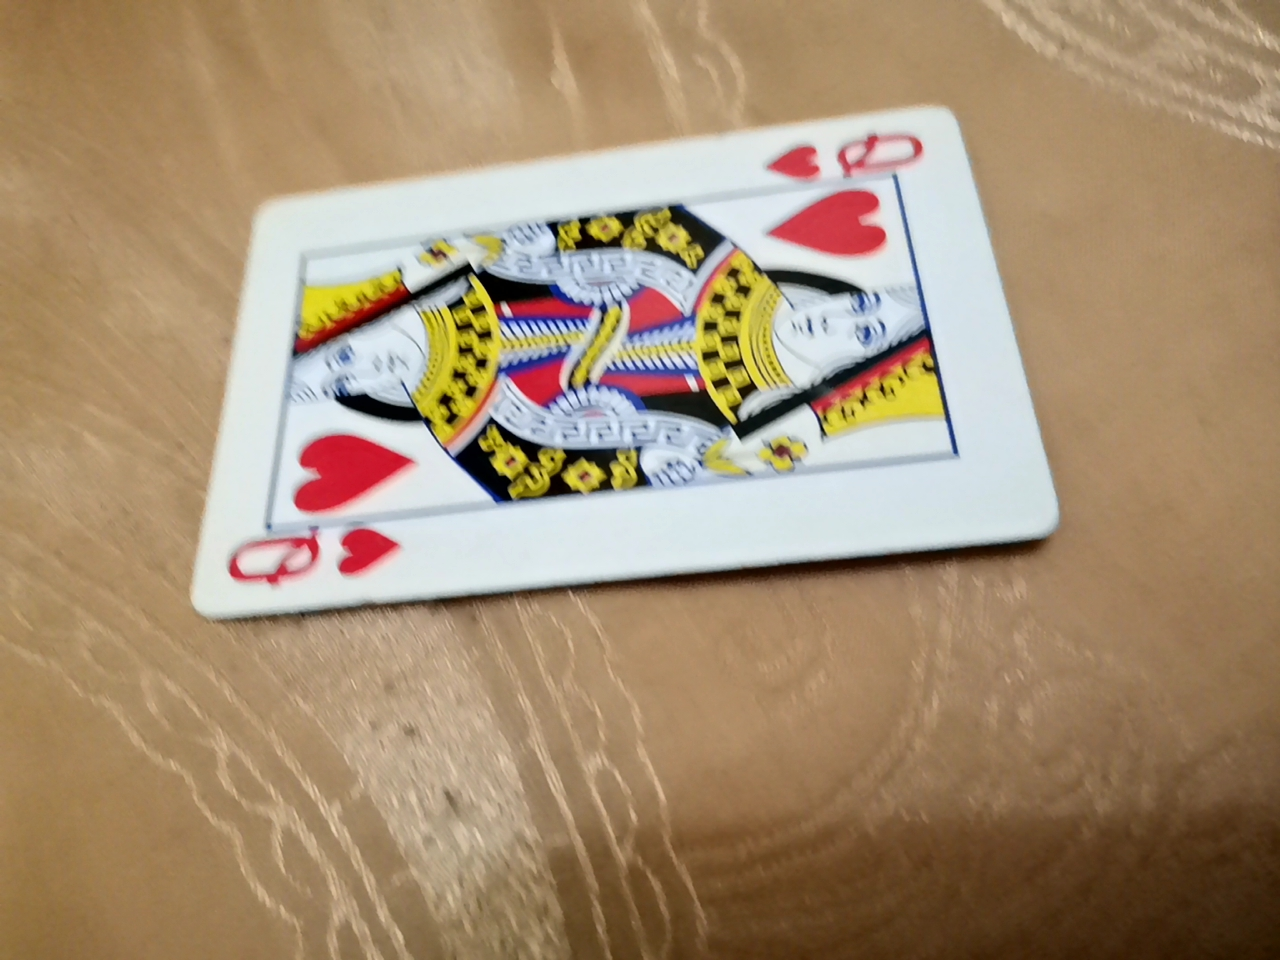hx q: (178, 111, 1073, 627)
